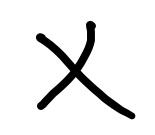mult: (36, 21, 136, 119)
